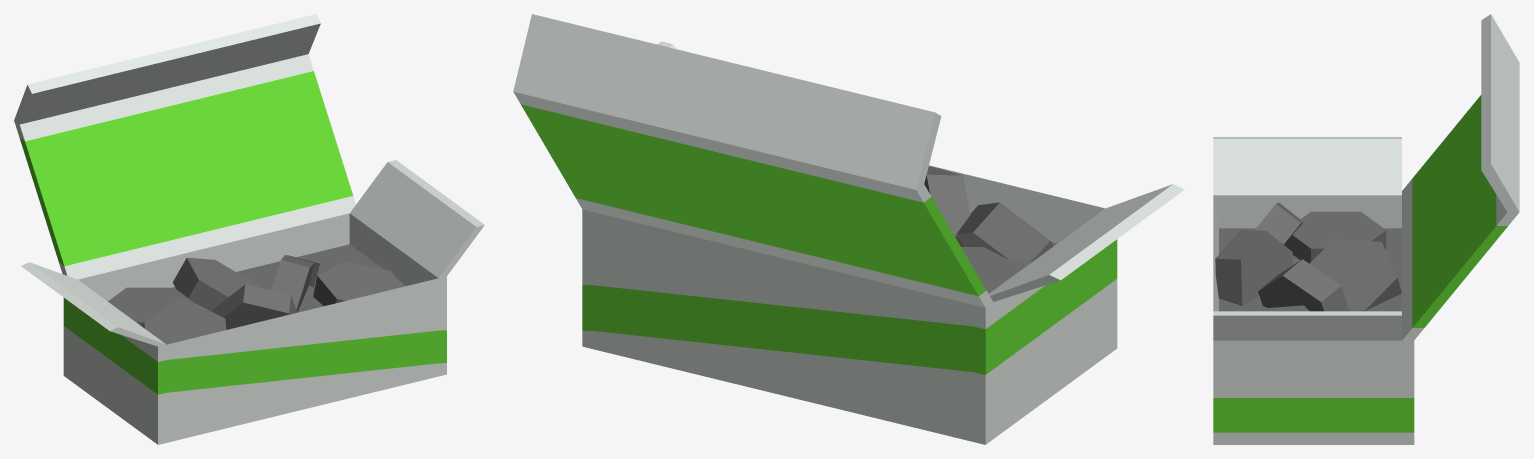
Rendered from boxOfScrews.fbx.
3 views of the same model, side by side, from view 1: azimuth 30°, elevation 25°; view 2: azimuth 150°, elevation 25°; view 3: azimuth 270°, elevation 25° (orthographic). The views are drawn at different scales.
Visible parts, largest first — view 1: Box of Screws; view 2: Box of Screws; view 3: Box of Screws.
Part boxes in pixels (x1,y1,x2,y2): Box of Screws: (14, 14, 484, 444); Box of Screws: (513, 14, 1184, 444); Box of Screws: (1213, 14, 1519, 444).
Bounding box in the file's own units: 28.05 × 18.66 × 18.92.
